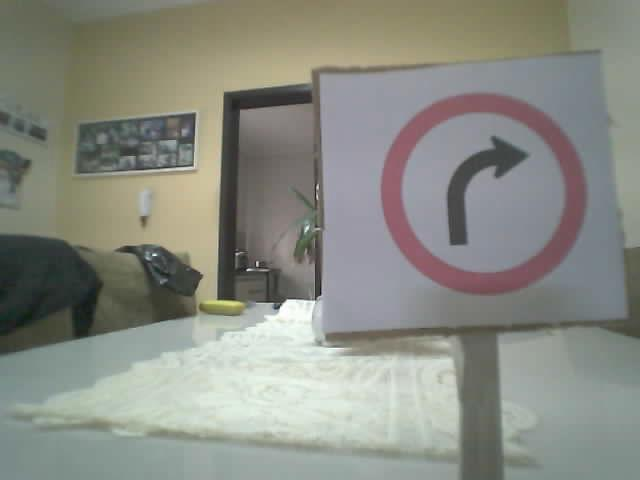R-25b_direita: (378, 91, 584, 291)
